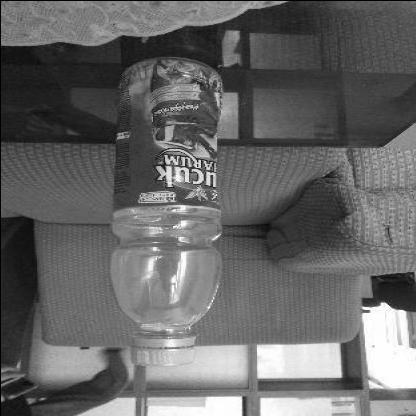plastic_bottles: (104, 53, 227, 369)
